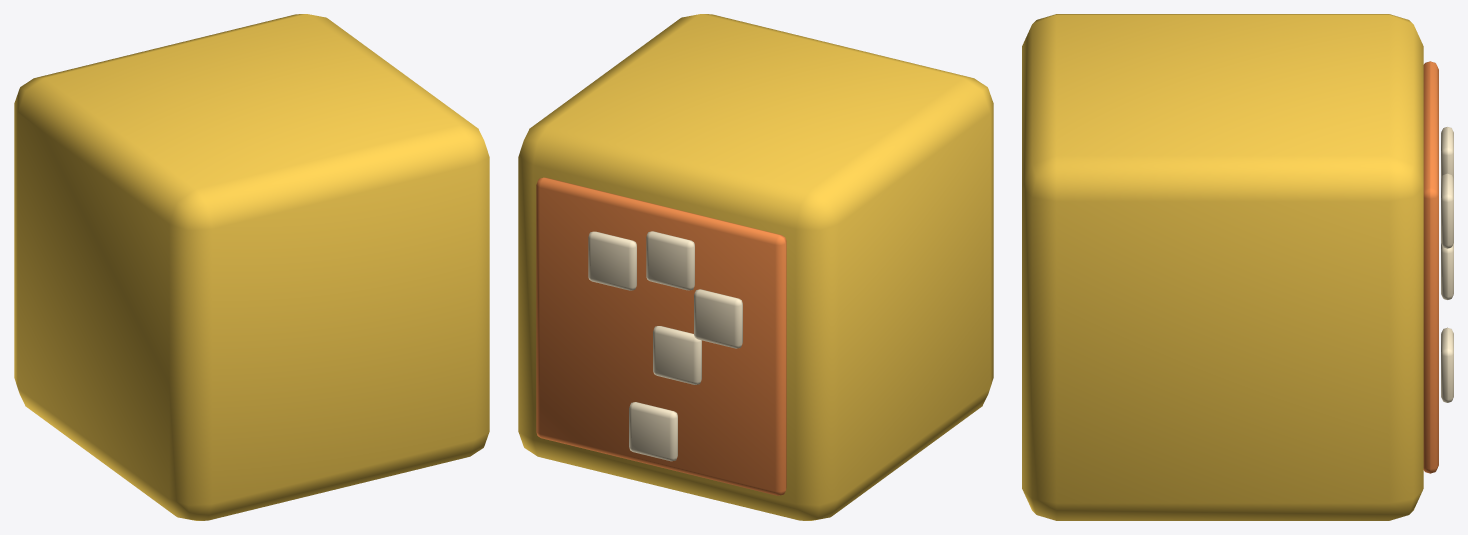
File: RewardBlock.fbx
The picture shows the model from 3 angles, left to right: view 1: azimuth 30°, elevation 25°; view 2: azimuth 150°, elevation 25°; view 3: azimuth 270°, elevation 25°; orthographic projection. The views are drawn at different scales.
Visible parts, largest first — view 1: Crate; view 2: Crate, FrontPlate, Question, Question.002, Question.004, Question.001, Question.003; view 3: Crate, FrontPlate, Question, Question.004, Question.003, Question.001.
Boxes of the visible parts, <box> form: Crate: <box>14,14,489,520</box>; Crate: <box>518,14,993,520</box>; FrontPlate: <box>536,177,786,495</box>; Question: <box>588,231,636,290</box>; Question.002: <box>694,289,742,348</box>; Question.004: <box>629,402,677,461</box>; Question.001: <box>646,231,694,290</box>; Question.003: <box>653,326,701,384</box>; Crate: <box>1022,14,1423,520</box>; FrontPlate: <box>1423,61,1438,473</box>; Question: <box>1441,173,1453,248</box>; Question.004: <box>1441,327,1453,402</box>; Question.003: <box>1441,243,1453,299</box>; Question.001: <box>1441,127,1453,178</box>.
Bounding box in the file's own units: 0.93 × 0.93 × 1.
